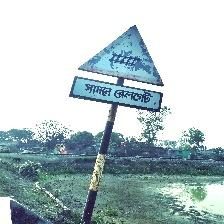Rail-crossing: (71, 25, 165, 112)
